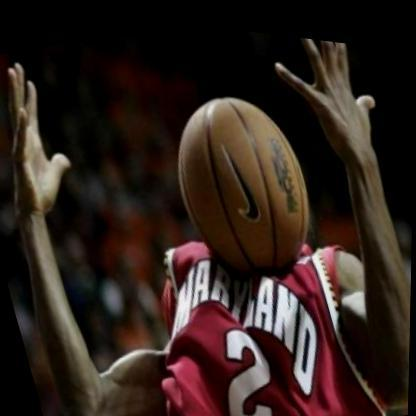basketball: (152, 64, 331, 294)
